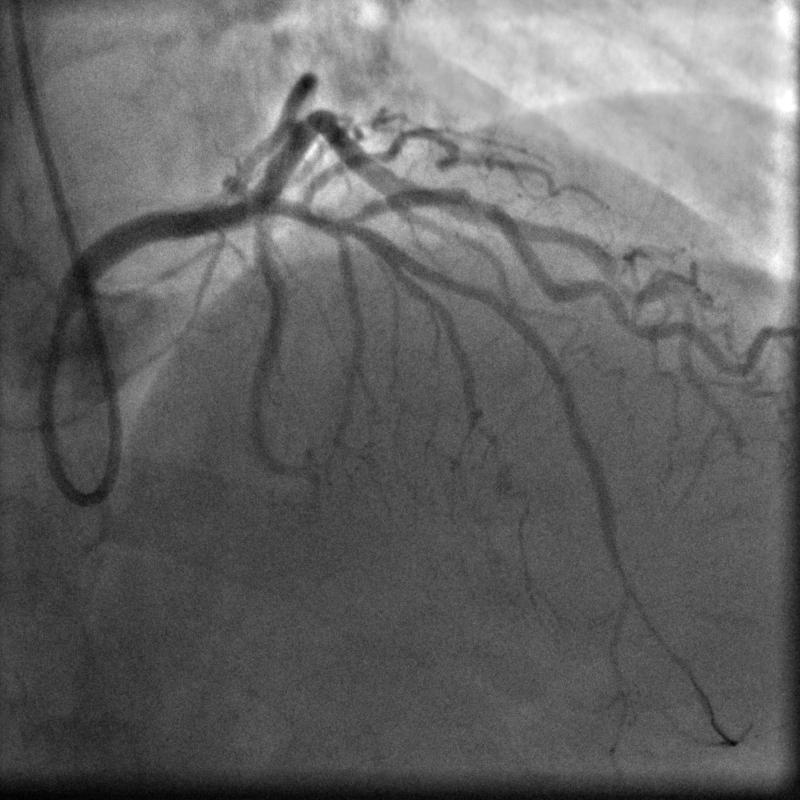Stenosis: (457, 184, 498, 220)
